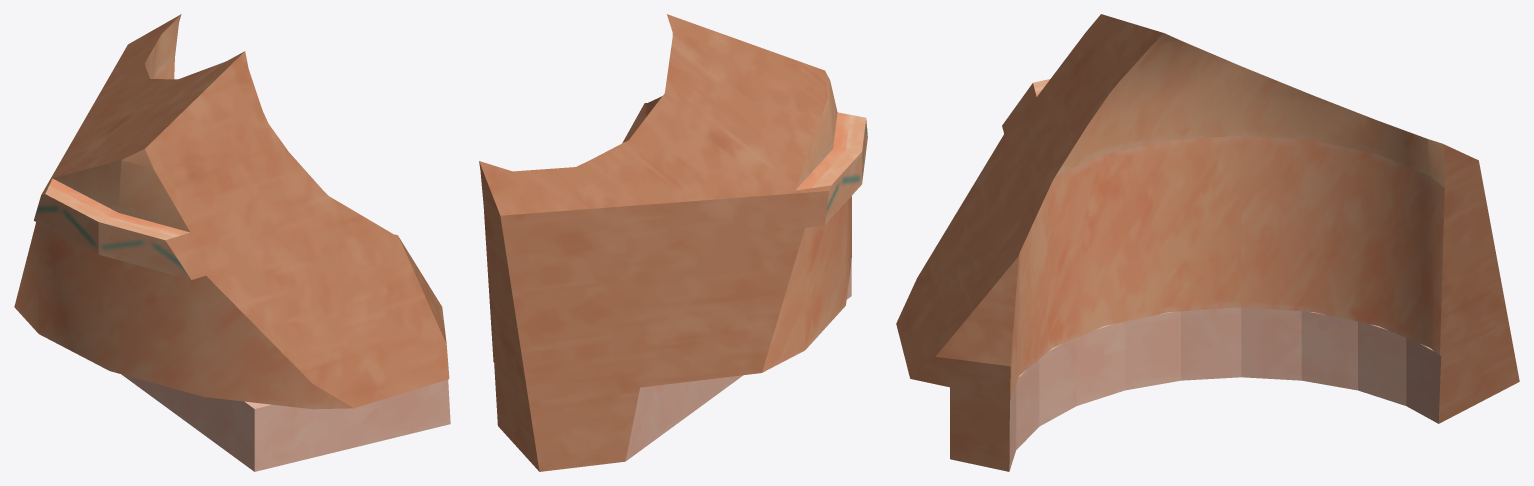
File: dome_s04.fbx
3 views of the same model, side by side, from view 1: azimuth 30°, elevation 25°; view 2: azimuth 150°, elevation 25°; view 3: azimuth 270°, elevation 25° (orthographic). The views are drawn at different scales.
Visible parts, largest first — view 1: dome_s04; view 2: dome_s04; view 3: dome_s04.
Boxes of the visible parts, x1,y1,x2,y2 form: dome_s04: (14,14,450,471); dome_s04: (479,14,867,471); dome_s04: (896,14,1519,471).
Bounding box in the file's own units: 5.59 × 5.55 × 8.56.
